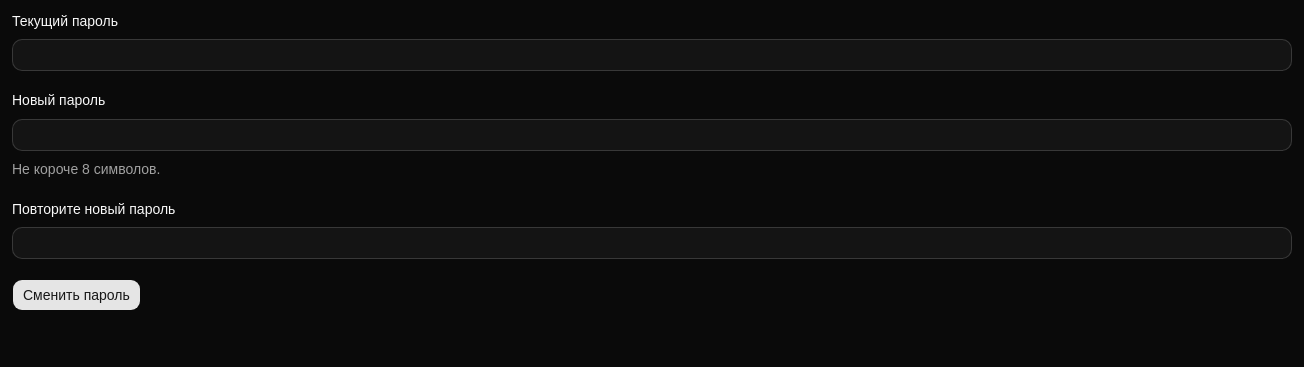
Test: смена пароля › показывает ошибку сервера
Type "wrong-password" into the password field labelled "Текущий пароль" at (652, 55), box [12,39,1292,71]
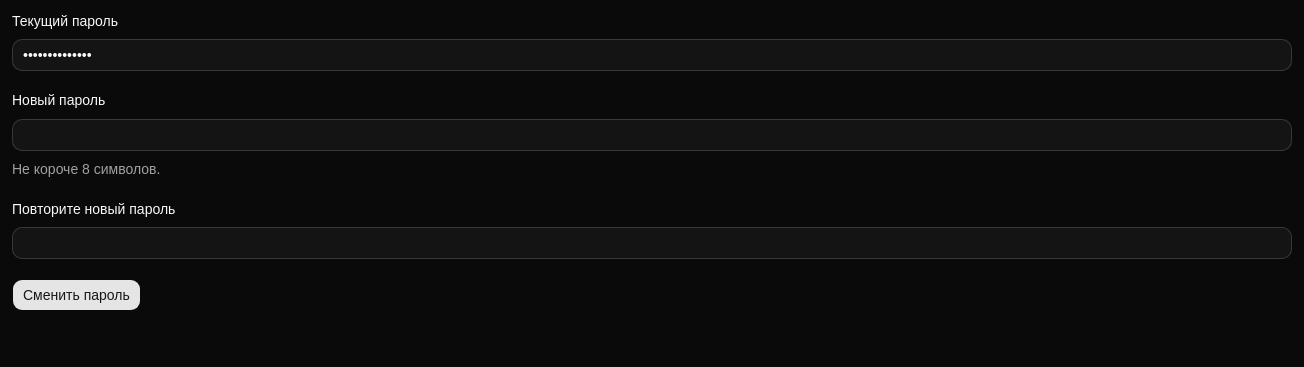
Type "new-password-42" into the password field labelled "Новый пароль" at (652, 134), box [12,118,1292,150]
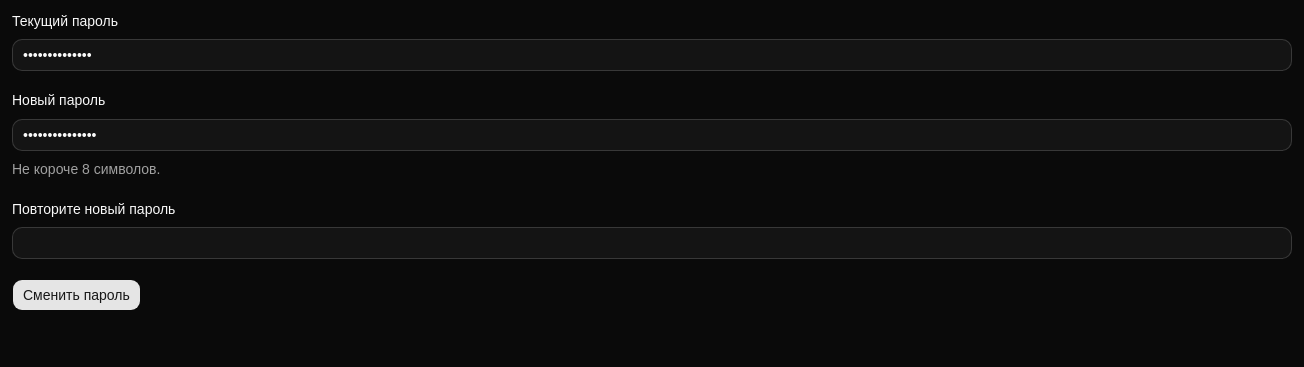
Type "new-password-42" into the password field labelled "Повторите новый пароль" at (652, 243), box [12,227,1292,259]
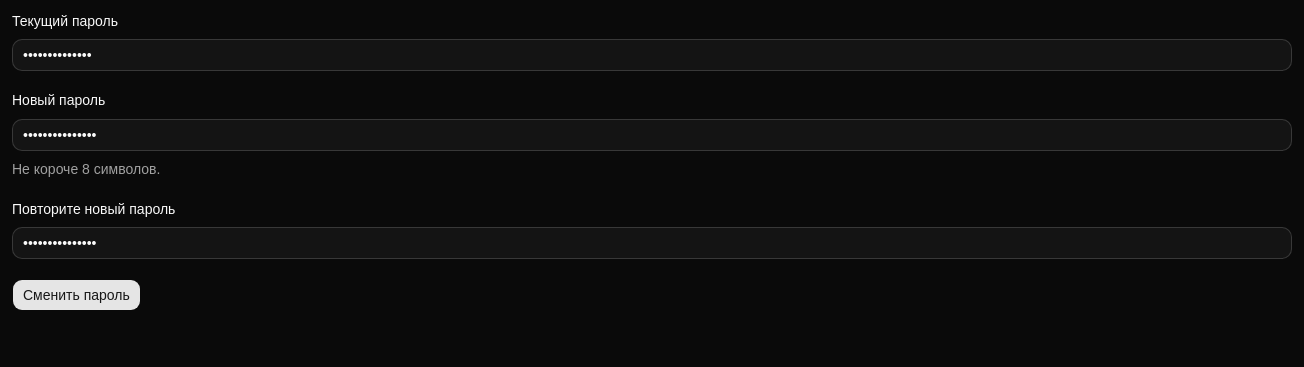
Click the button "Сменить пароль" at (76, 295), box [12,279,141,311]
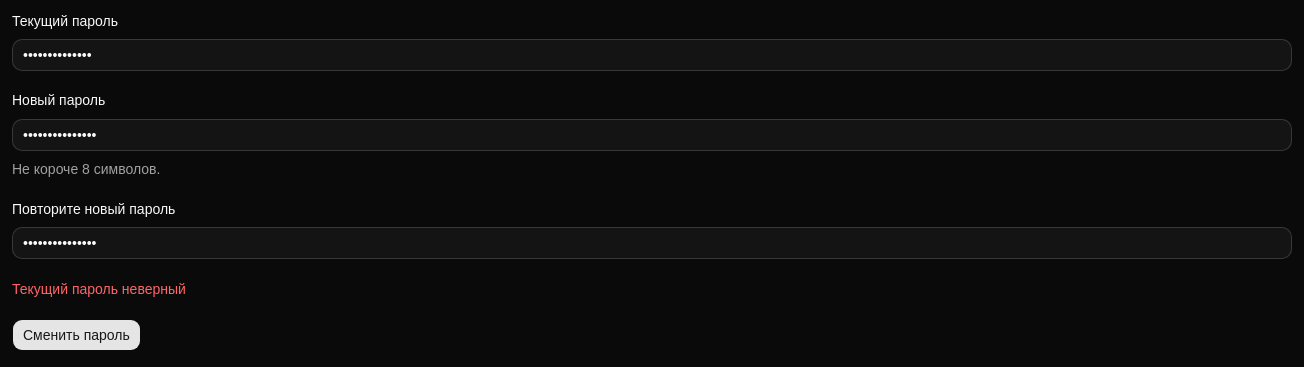
Expected: the text "Текущий пароль неверный" is shown, [12,281,186,297]
